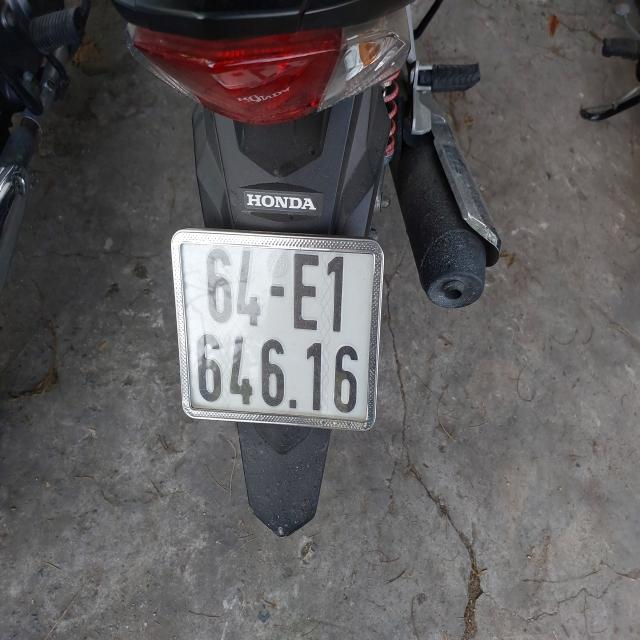1: (327, 254, 348, 332), (306, 342, 326, 411)
4: (235, 247, 262, 328), (230, 335, 252, 405)
6: (204, 242, 234, 324), (194, 332, 223, 403), (260, 334, 285, 412), (333, 341, 359, 415)
E: (292, 252, 320, 336)
